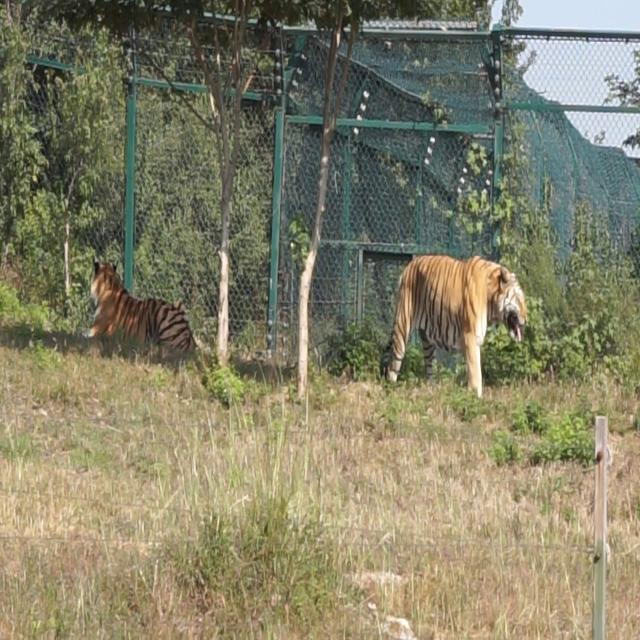Tiger: (365, 237, 539, 423), (88, 252, 200, 351)
